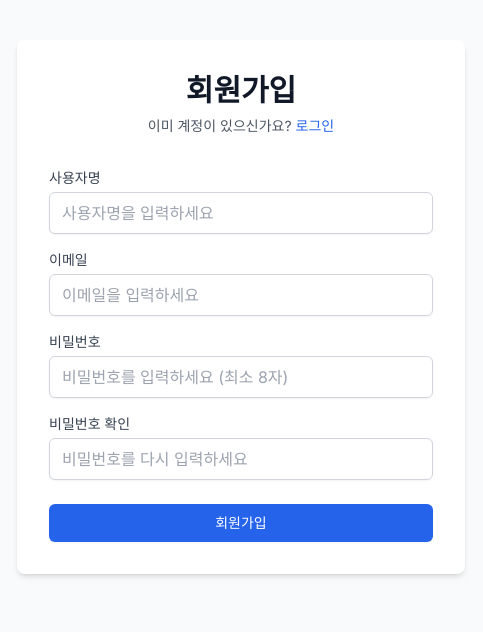
Test: RegisterPage › shows error when passwords do not match
The image size is (483, 632).
Note: Fill in the form fields
Step 1. Type "testuser" into the field labelled "사용자명" → (241, 213), box top-left (49, 192), bottom-right (433, 234)
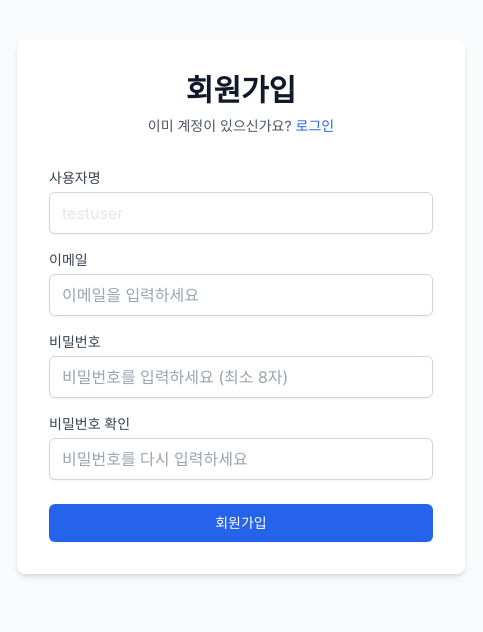
Step 2. Type "test@example.com" into the field labelled "이메일" → (241, 295), box top-left (49, 274), bottom-right (433, 316)
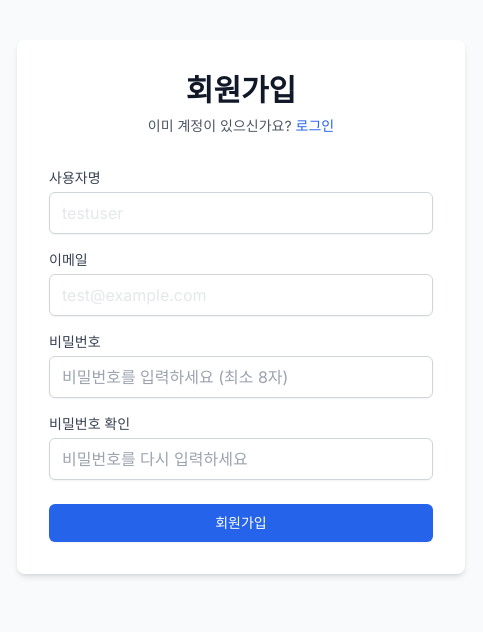
Step 3. Type "password123" into the password field labelled "비밀번호" → (241, 377), box top-left (49, 356), bottom-right (433, 398)
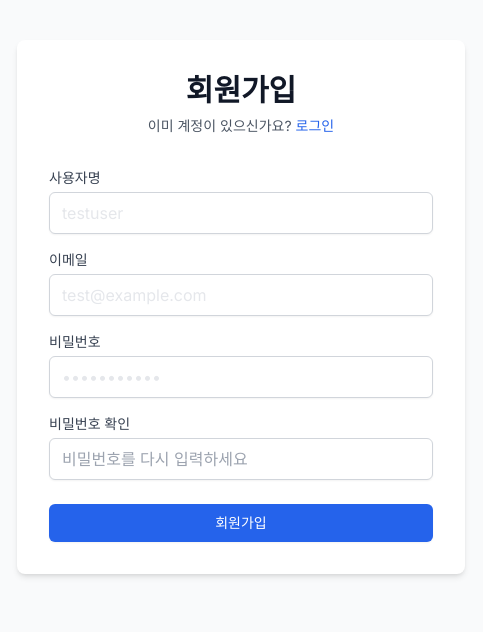
Step 4. Type "different" into the password field labelled "비밀번호 확인" → (241, 459), box top-left (49, 438), bottom-right (433, 480)
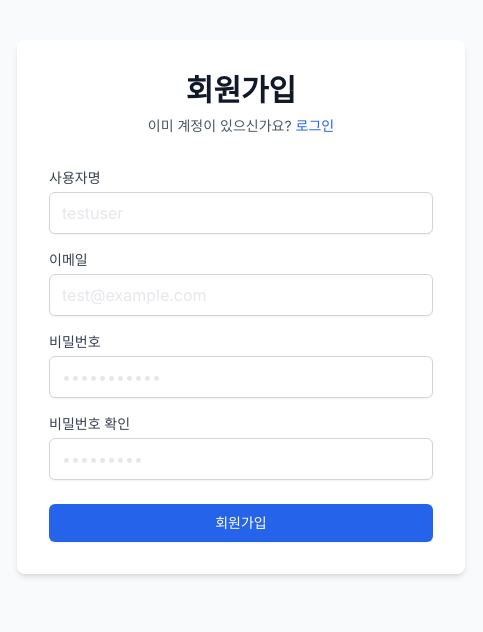
Step 5. Click the button "회원가입" → (241, 523), box top-left (49, 504), bottom-right (433, 542)
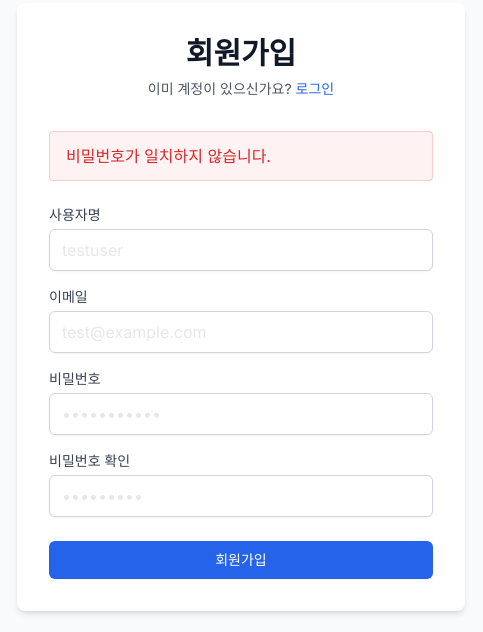
Result: the text "비밀번호가 일치하지 않습니다." is shown at top-left (49, 131), bottom-right (433, 181)
